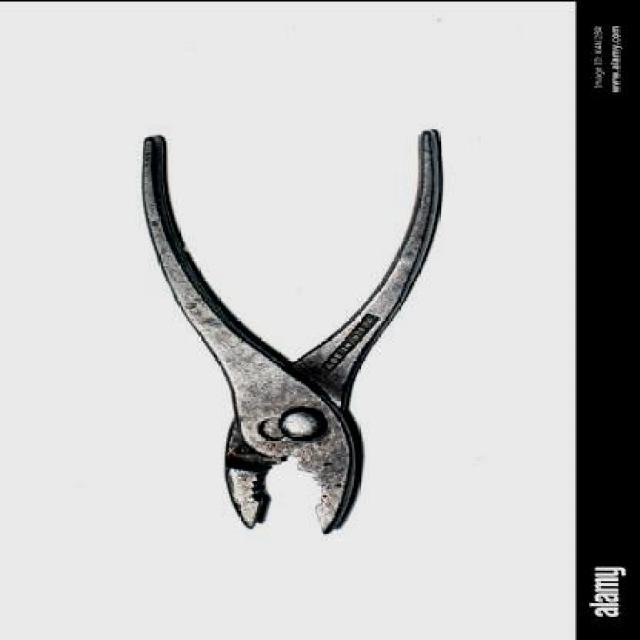pliers: (137, 119, 445, 542)
